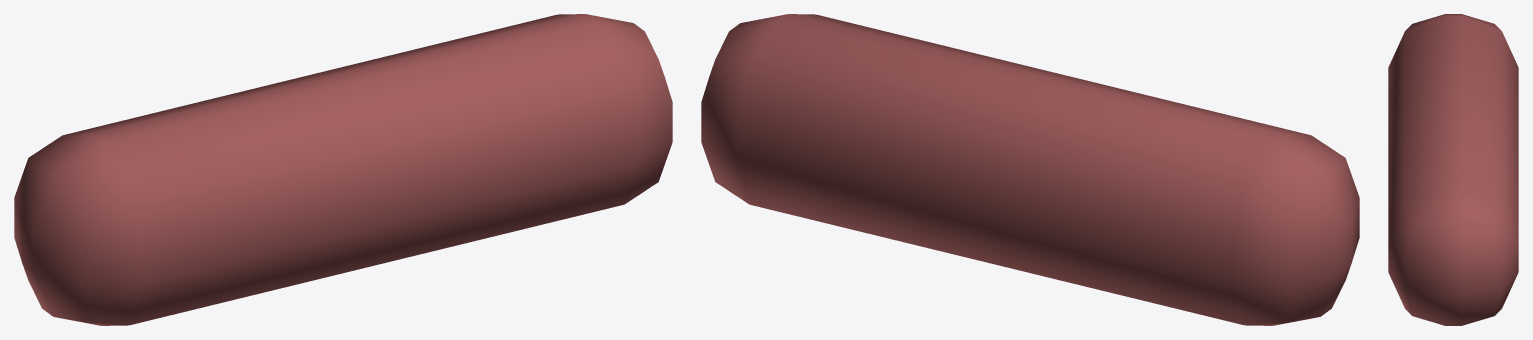
File: CharMouthFlat.fbx
3 renders of one model, left to right at view 1: azimuth 30°, elevation 25°; view 2: azimuth 150°, elevation 25°; view 3: azimuth 270°, elevation 25°, orthographic. The views are drawn at different scales.
Parts seen in each view (by area): view 1: CharMouthFlat; view 2: CharMouthFlat; view 3: CharMouthFlat.
Boxes of the visible parts, x1,y1,x2,y2 form: CharMouthFlat: (14, 14, 672, 325); CharMouthFlat: (701, 14, 1359, 325); CharMouthFlat: (1388, 14, 1518, 325).
Bounding box in the file's own units: 0.065 × 0.018 × 0.016.
